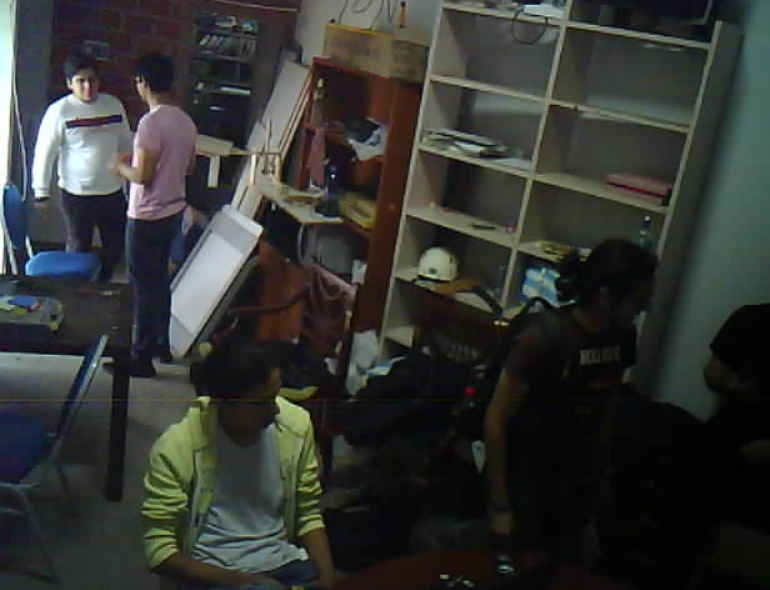person: (15, 41, 134, 309), (127, 18, 197, 390)
